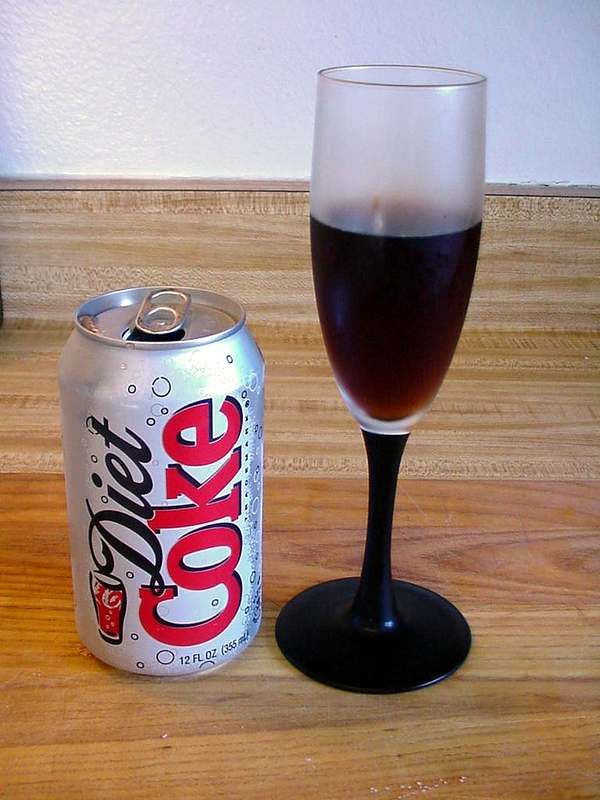can: (53, 281, 271, 681)
